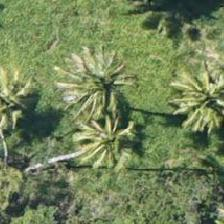coconut_tree: (48, 36, 138, 126), (47, 92, 137, 182), (157, 56, 223, 146), (0, 55, 48, 145)
